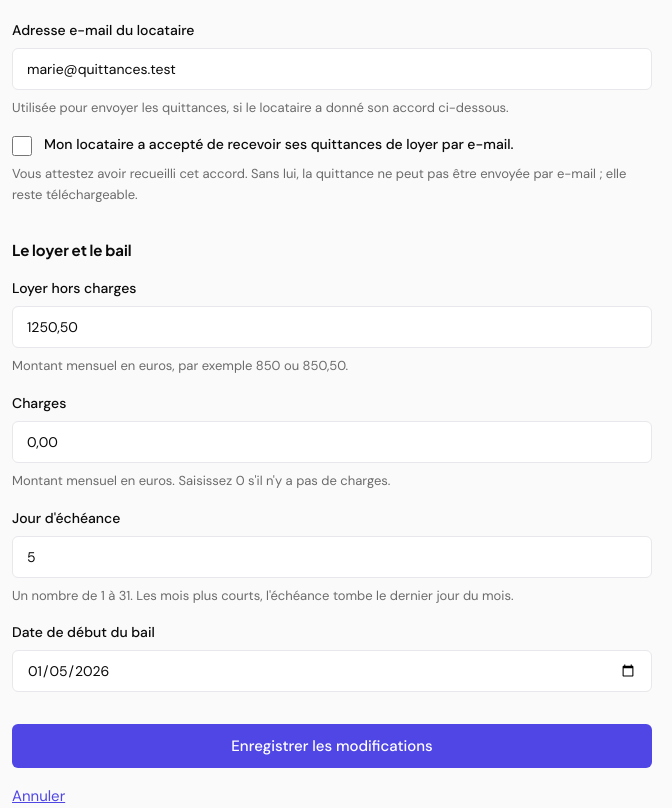
Test case: UpdateRentalForm (R32, CA32) › CA36 — L22 renvoyé par l'action : message sous la date de début, valeurs conservées, focus
(page scrolled)
Click the button "Enregistrer les modifications". click: [332, 746]
box: x1=12 y1=724 x2=652 y2=768
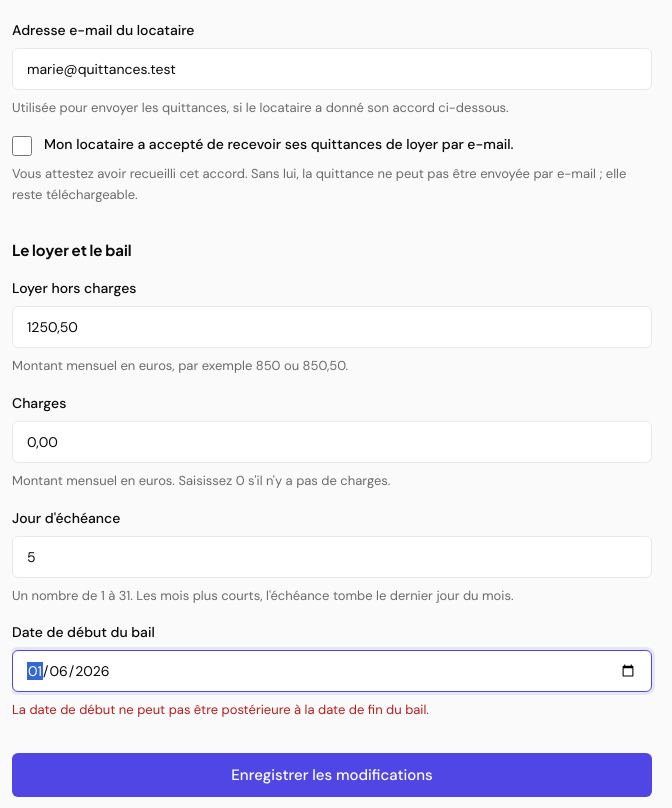
Expected: the text "La date de début ne peut pas être postérieure à la date de fin du bail." is shown, x1=12 y1=701 x2=429 y2=718
Expected: the date field labelled "Date de début du bail" holds "2026-01-06", x1=12 y1=650 x2=652 y2=692
